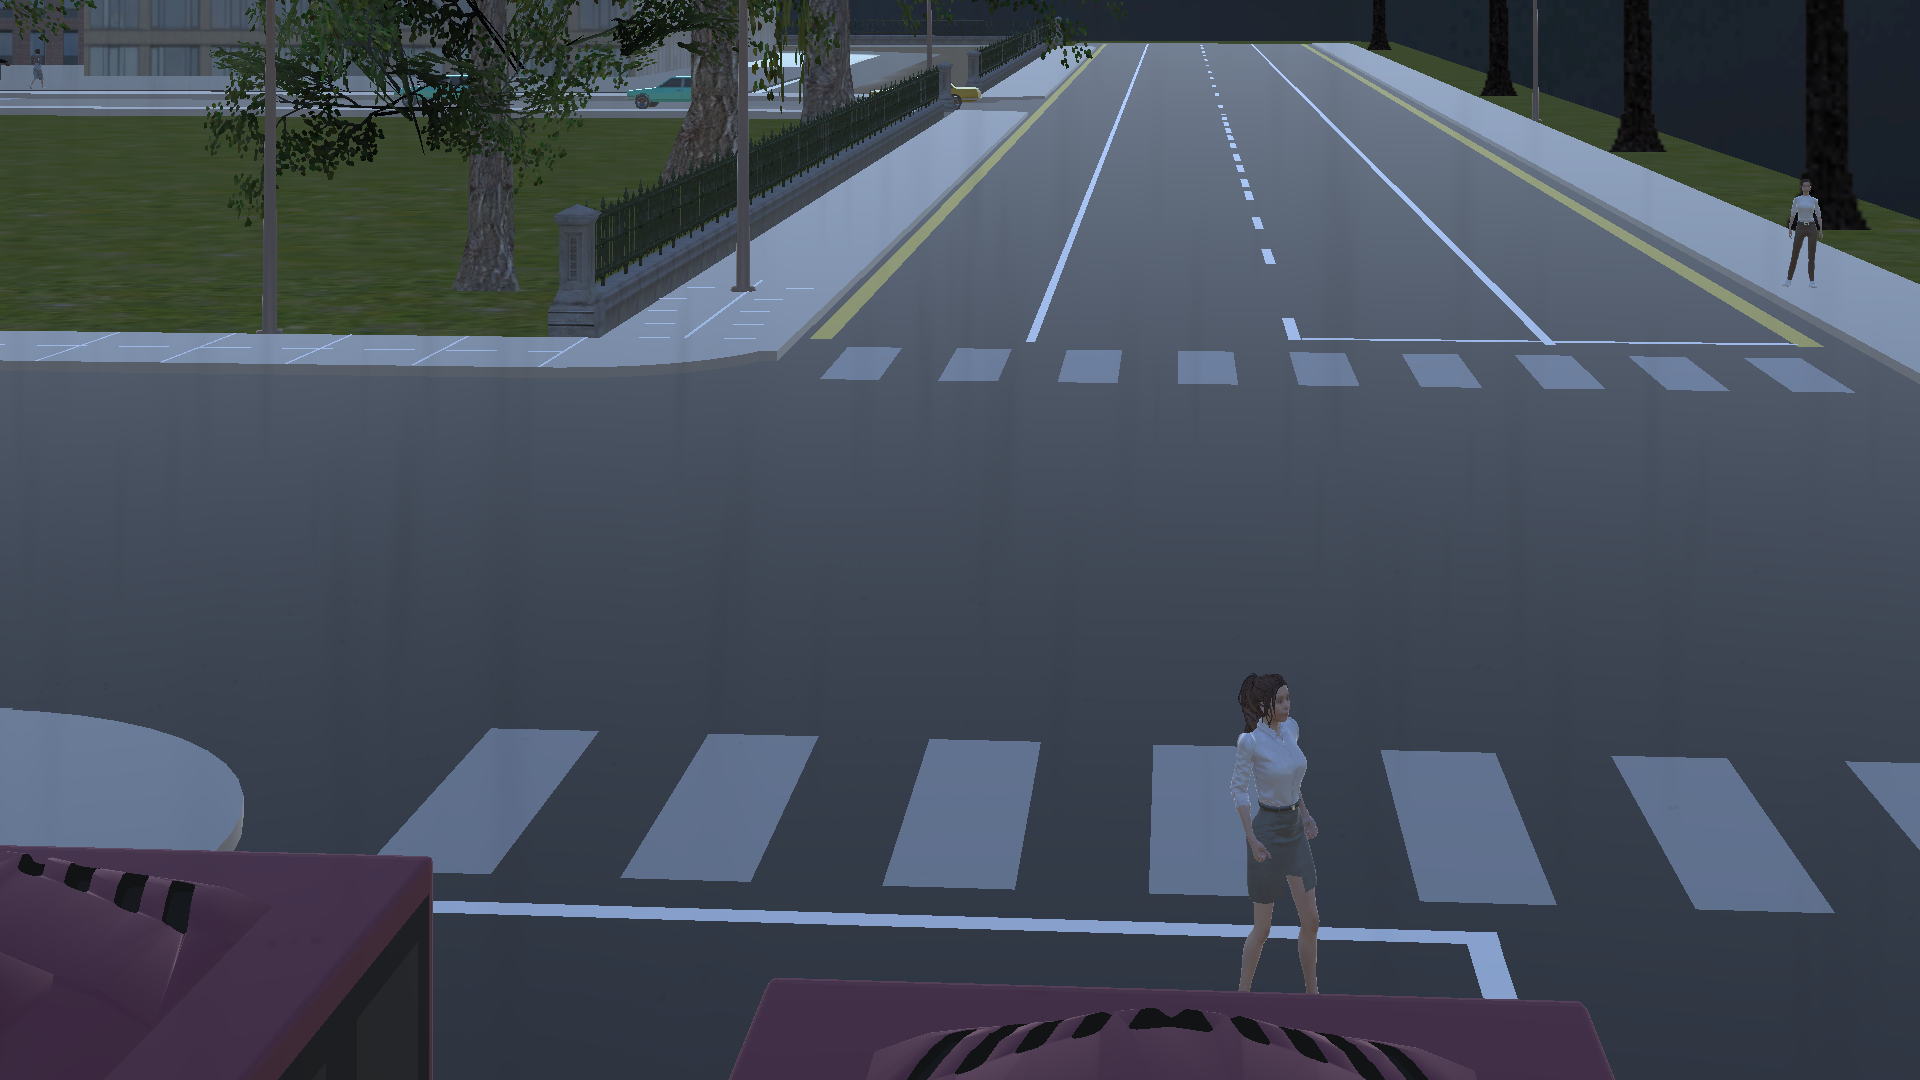pedestrian: (1207, 663, 1348, 987), (1778, 169, 1833, 302)
